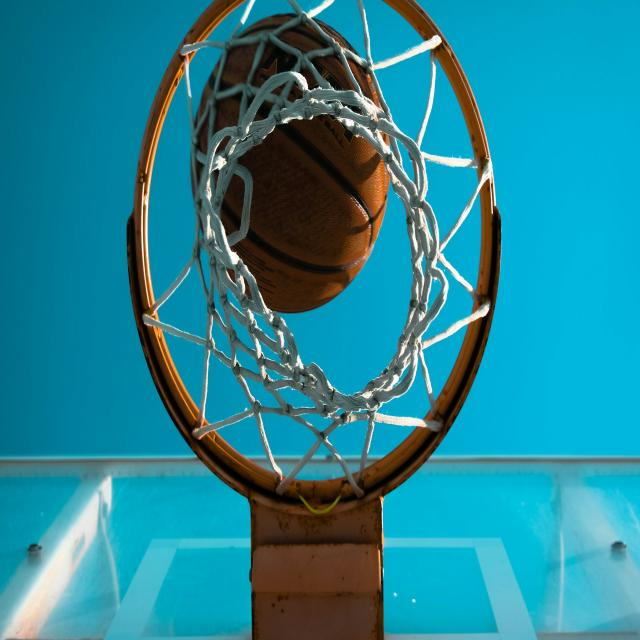Goal: (191, 14, 390, 313)
